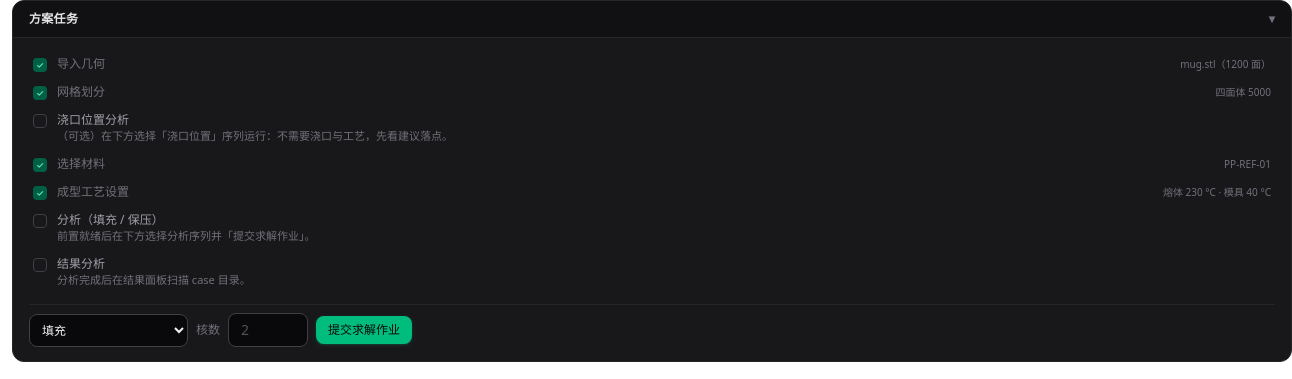
Test: StudyTasksPanel（方案任务窗格） › 分析待办时右键：只有「打开编辑」（无作业可取消）
The image size is (1292, 379).
Right-click the button "分析（填充 / 保压） 前置就绪后在下方选择分析序列并「提交求解作业」。" at (110, 220), box [29, 208, 1275, 248]
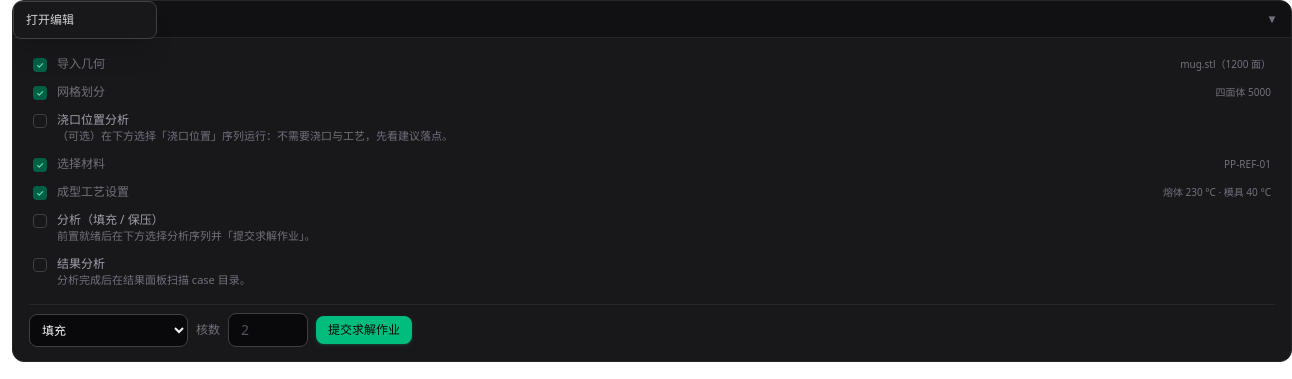
Now the buttons read "打开编辑", in this order, box [14, 6, 156, 34]
